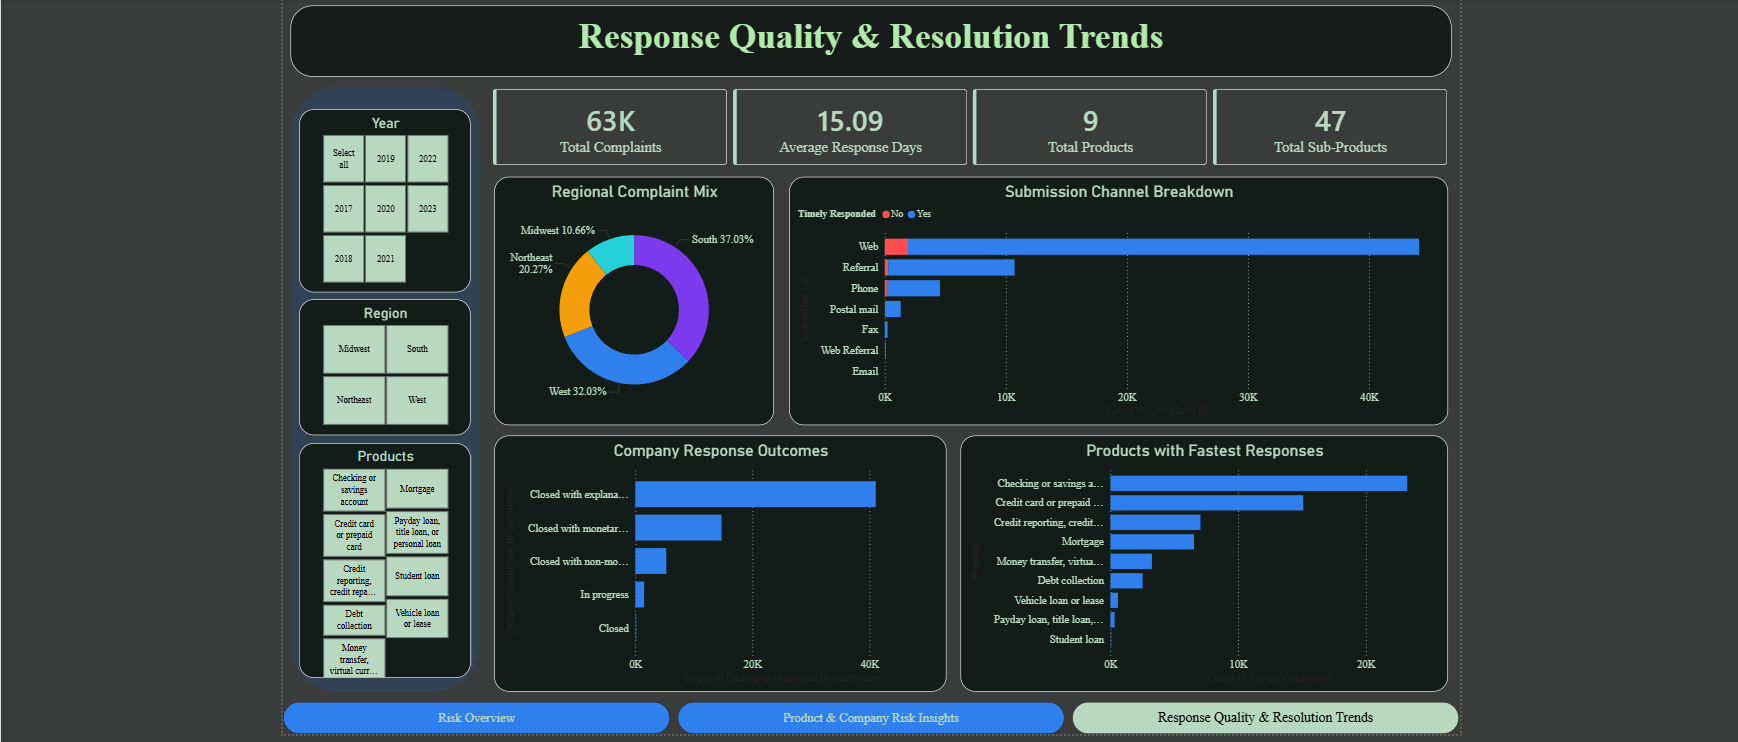

This screenshot's page, from the dashboard's own definition file:
{"tool":"powerbi","page":{"name":"Response Quality & Resolution Trends","canvas":[1600,1000],"ordinal":2},"visuals":[{"type":"textbox","box":[10.2,10.2,1577.8,96.8],"z":0},{"type":"cardVisual","fields":{"Data":["cleaned_financial_complaints.Total Complaints","cleaned_financial_complaints.Average Response Time","cleaned_financial_complaints.Total Products","cleaned_financial_complaints.Total Sub-Products"]},"box":[268.3,107,1331.5,137.6],"z":1000},{"type":"pageNavigator","box":[0,956.2,1599.9,44.2],"z":2000},{"type":"shape","box":[10.2,120.6,258.2,822],"z":3000},{"type":"slicer","title":"Year","fields":{"Values":["cleaned_financial_complaints.Date submitted.Variation.Date Hierarchy.Year"]},"box":[21.5,150.5,233,249.1],"z":4000},{"type":"slicer","title":"Region","fields":{"Values":["cleaned_financial_complaints.Census_Region"]},"box":[21.5,408.6,233,184.6],"z":5000},{"type":"slicer","title":"Products","fields":{"Values":["cleaned_financial_complaints.Product"]},"box":[21.5,603.9,233,319],"z":6000},{"type":"barChart","title":"Submission Channel Breakdown","fields":{"Category":["cleaned_financial_complaints.Submitted via"],"Y":["CountNonNull(cleaned_financial_complaints.Complaint ID)"],"Series":["cleaned_financial_complaints.Timely response?"]},"box":[687.4,243.3,895.2,337.5],"z":7000},{"type":"donutChart","title":"Regional Complaint Mix","fields":{"Category":["cleaned_financial_complaints.Census_Region"],"Y":["CountNonNull(cleaned_financial_complaints.Complaint ID)"]},"box":[287.7,243.3,380.1,337.5],"z":8000},{"type":"clusteredBarChart","title":"Products with Fastest Responses","fields":{"Category":["cleaned_financial_complaints.Product"],"Y":["CountNonNull(cleaned_financial_complaints.Timely response?)"]},"box":[920.1,595,662.5,348.1],"z":10000},{"type":"clusteredBarChart","title":"Company Response Outcomes","fields":{"Category":["cleaned_financial_complaints.Company response to consumer"],"Y":["CountNonNull(cleaned_financial_complaints.Company response to consumer)"]},"box":[287.7,595,614.6,348.1],"z":11000}]}

Visuals, with their boxes on the page's 1600x1000 design canvas (x1, y1, x2, y2). These are canvas units, not pixel positions in the 1738x742 screenshot, which may show the page scaled, cropped or inside an application window:
textbox: pyautogui.locateOnScreen(10, 10, 1588, 107)
cardVisual - cleaned_financial_complaints.Total Complaints x cleaned_financial_complaints.Average Response Time: pyautogui.locateOnScreen(268, 107, 1600, 245)
pageNavigator: pyautogui.locateOnScreen(0, 956, 1600, 1000)
shape: pyautogui.locateOnScreen(10, 121, 268, 943)
"Year" slicer: pyautogui.locateOnScreen(22, 150, 254, 400)
"Region" slicer: pyautogui.locateOnScreen(22, 409, 254, 593)
"Products" slicer: pyautogui.locateOnScreen(22, 604, 254, 923)
"Submission Channel Breakdown" barChart: pyautogui.locateOnScreen(687, 243, 1583, 581)
"Regional Complaint Mix" donutChart: pyautogui.locateOnScreen(288, 243, 668, 581)
"Products with Fastest Responses" clusteredBarChart: pyautogui.locateOnScreen(920, 595, 1583, 943)
"Company Response Outcomes" clusteredBarChart: pyautogui.locateOnScreen(288, 595, 902, 943)
